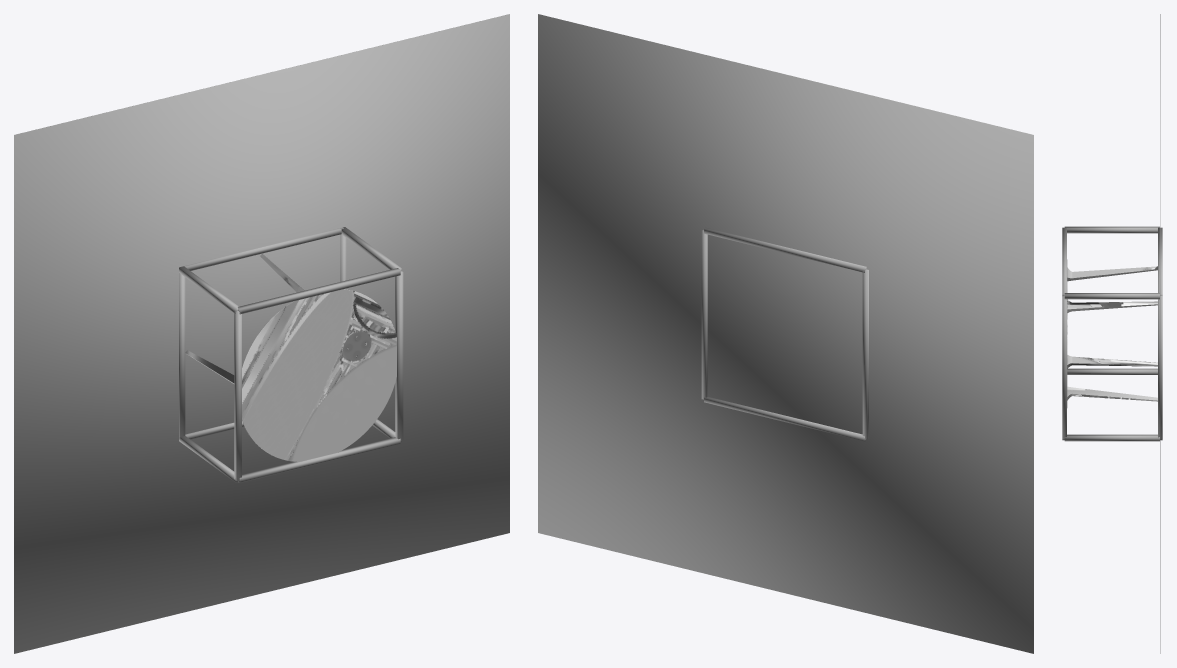
3 renders of one model, left to right at view 1: azimuth 30°, elevation 25°; view 2: azimuth 150°, elevation 25°; view 3: azimuth 270°, elevation 25°, orthographic. The views are drawn at different scales.
Size of the model in its own units: 2 by 2 by 0.4167.
